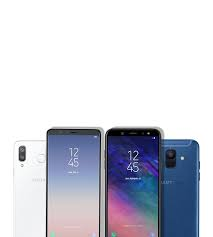samsung: (44, 125, 103, 236), (105, 126, 160, 237)
